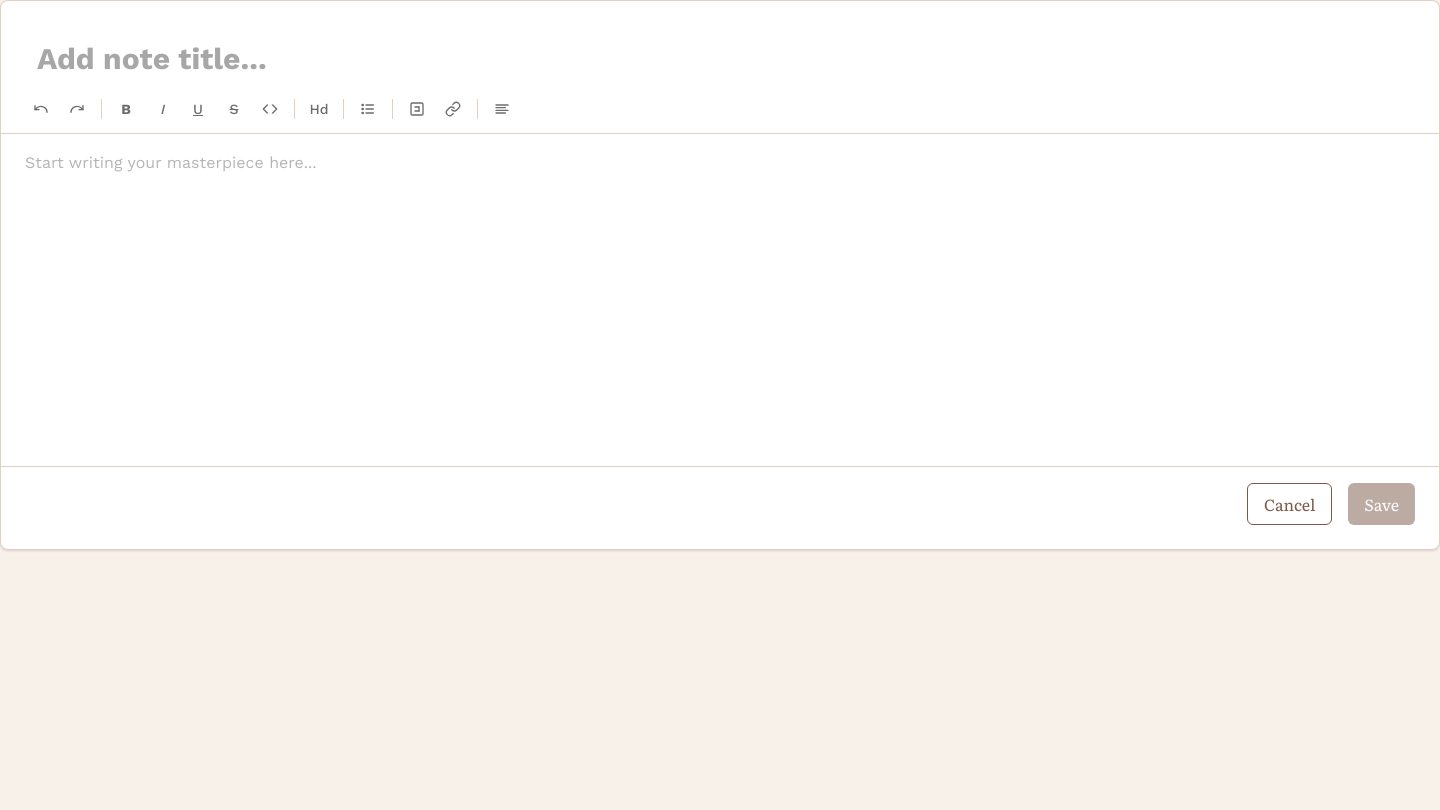
Test: Form — Save button state › Save button remains disabled when title is cleared
Step 1. Type "X" into the field with placeholder "Add note title..." → (720, 59), box 25,25 -> 1415,93
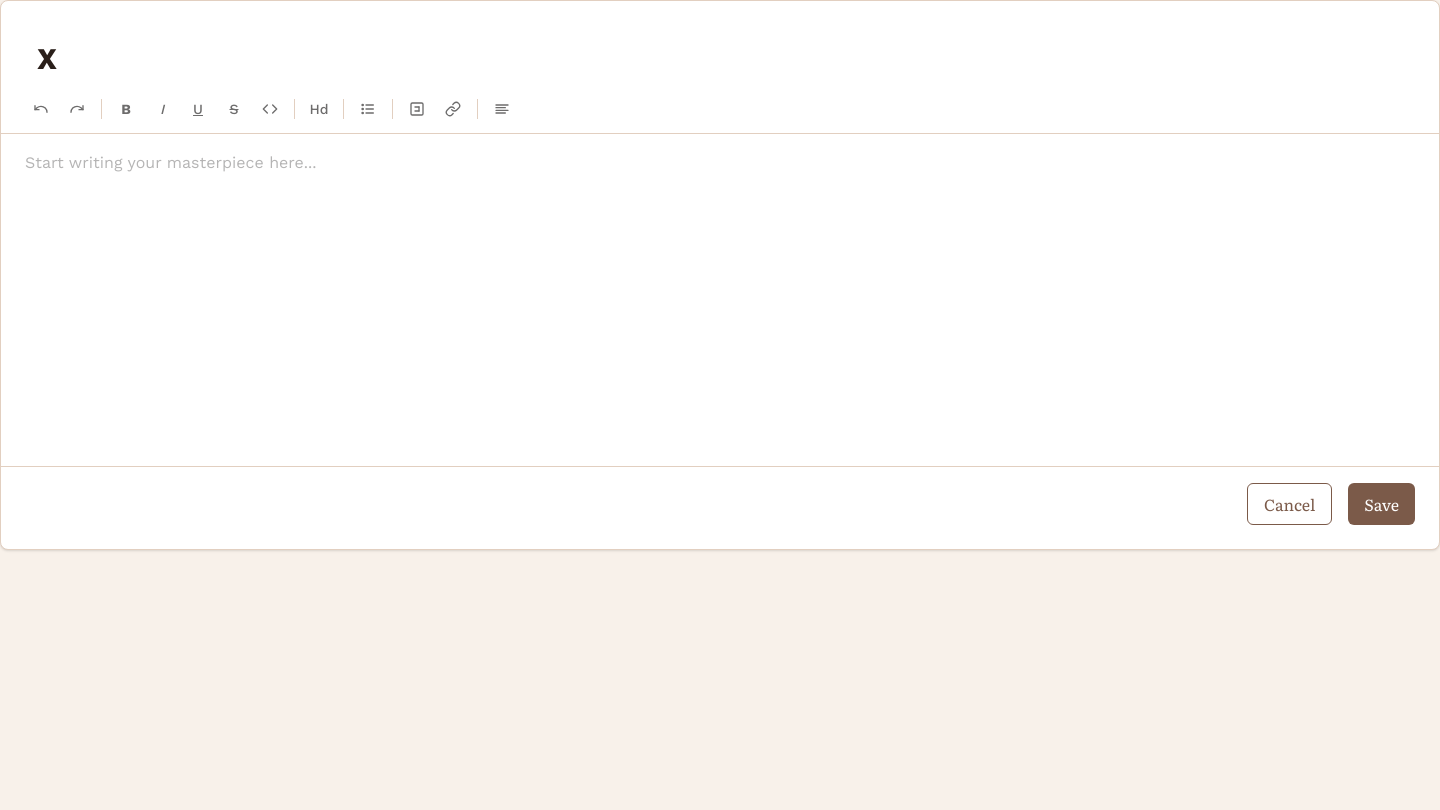
Step 2. Clear the 1st field with placeholder "Add note title..." → (720, 59), box 25,25 -> 1415,93
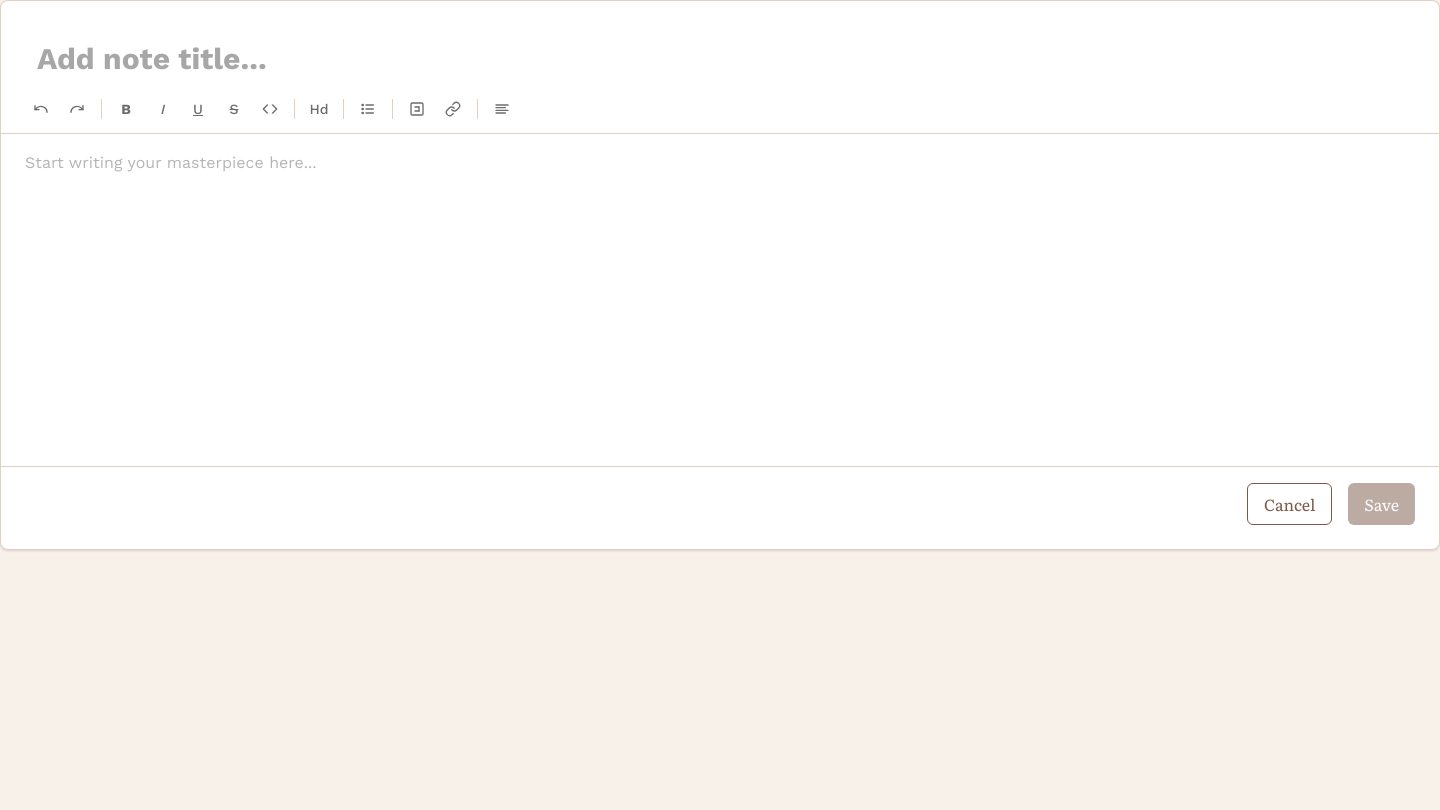
Expected: the button "Save" is disabled, 1348,483 -> 1415,525
